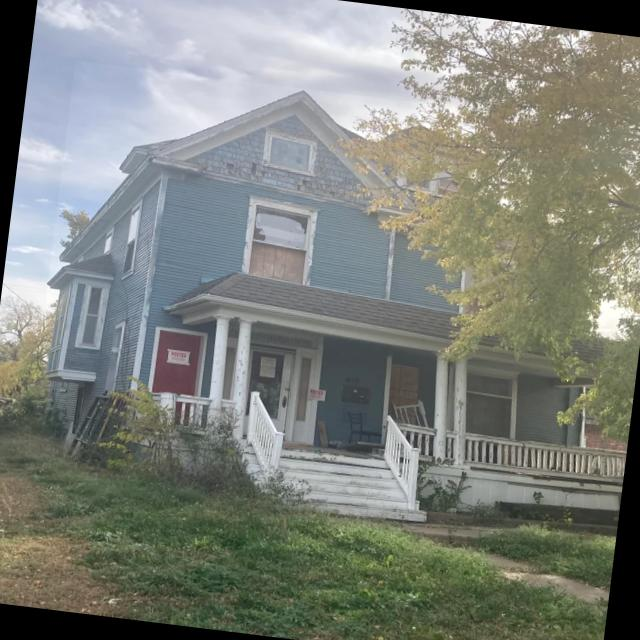House: (23, 60, 640, 548)
